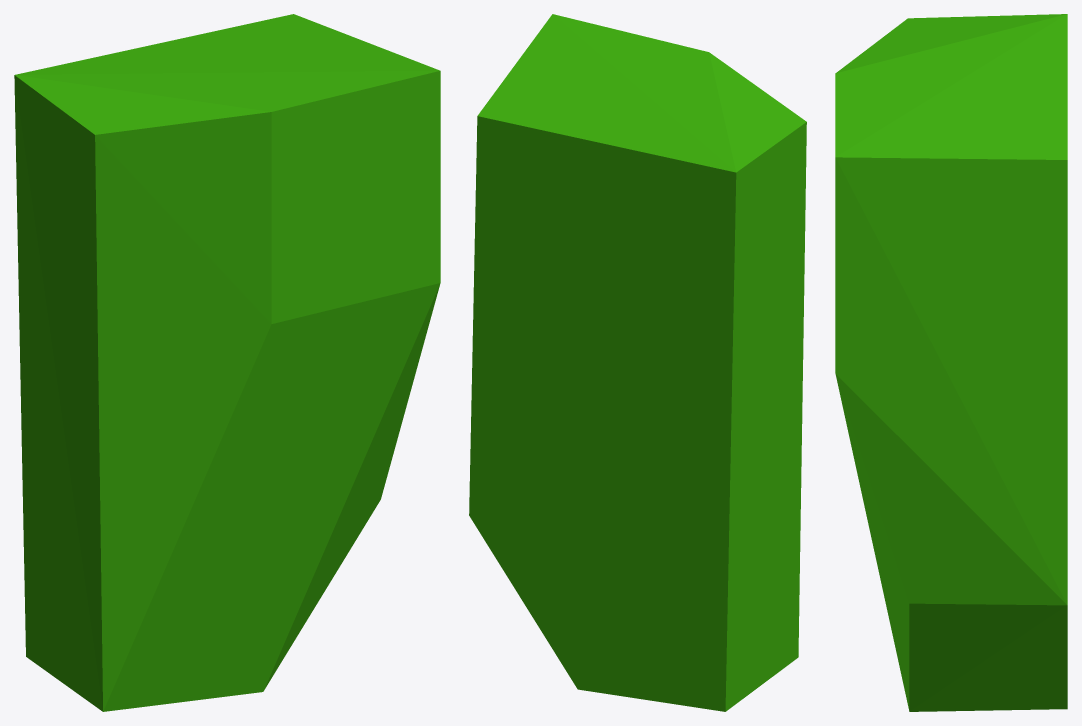
The picture shows the model from 3 angles, left to right: view 1: azimuth 30°, elevation 25°; view 2: azimuth 150°, elevation 25°; view 3: azimuth 270°, elevation 25°; orthographic projection. The views are drawn at different scales.
Bounding box in the file's own units: 4.7 × 8.82 × 2.97.
